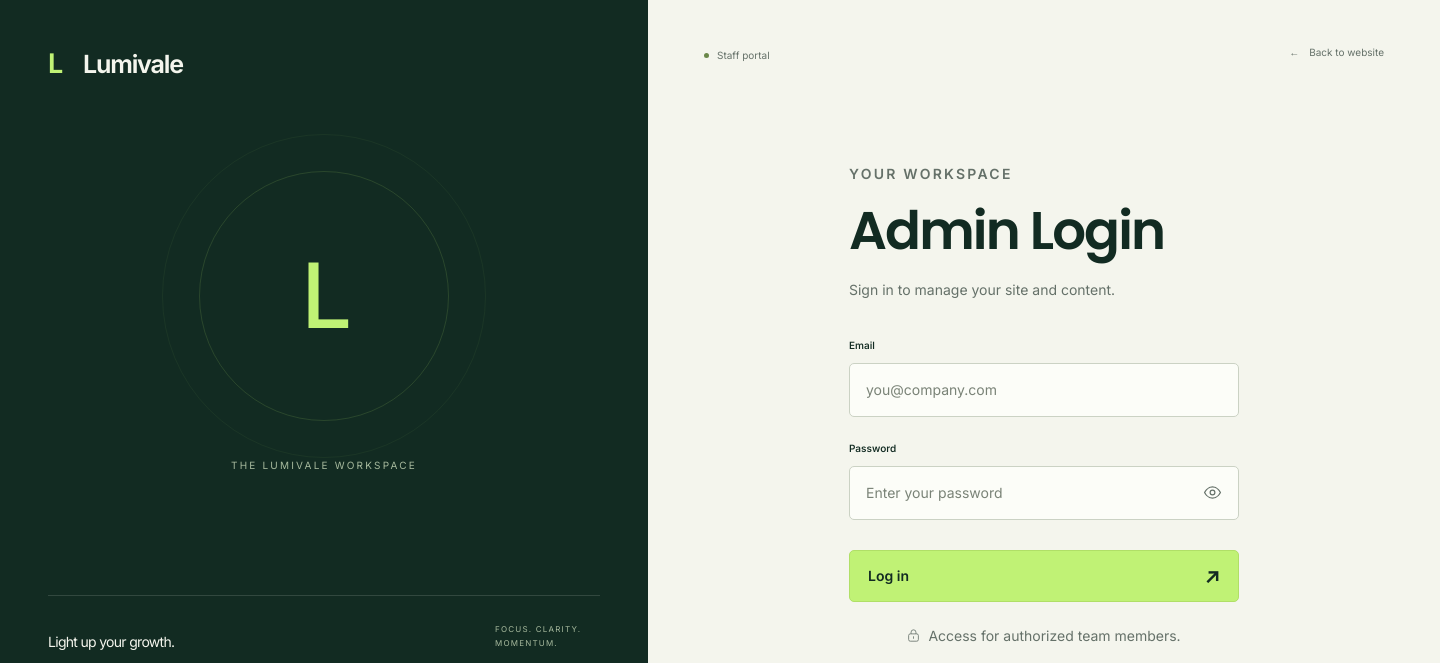
reveals and conceals the password without changing its value
Type "example-for-test" into the password field labelled "Password". click: (1044, 493)
box: x1=849 y1=466 x2=1239 y2=520
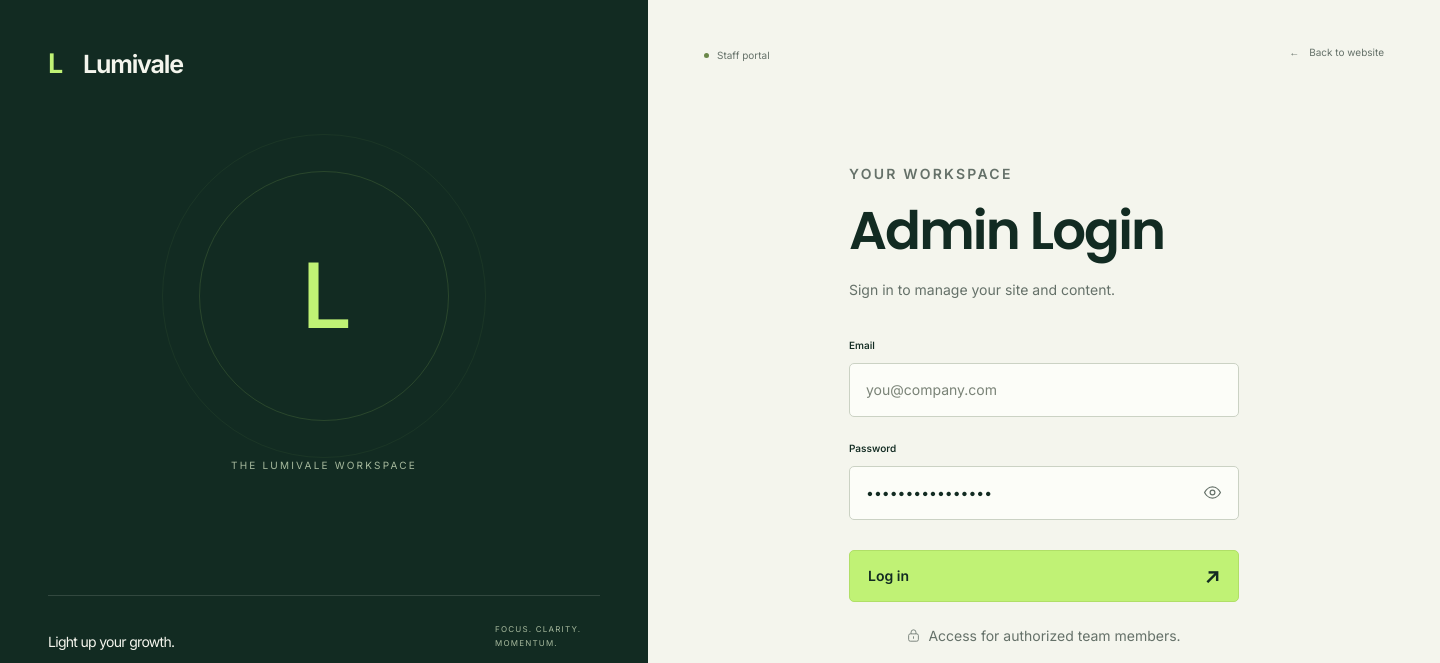
Click the button named "Show password". click: (1212, 493)
box: x1=1190 y1=471 x2=1234 y2=515
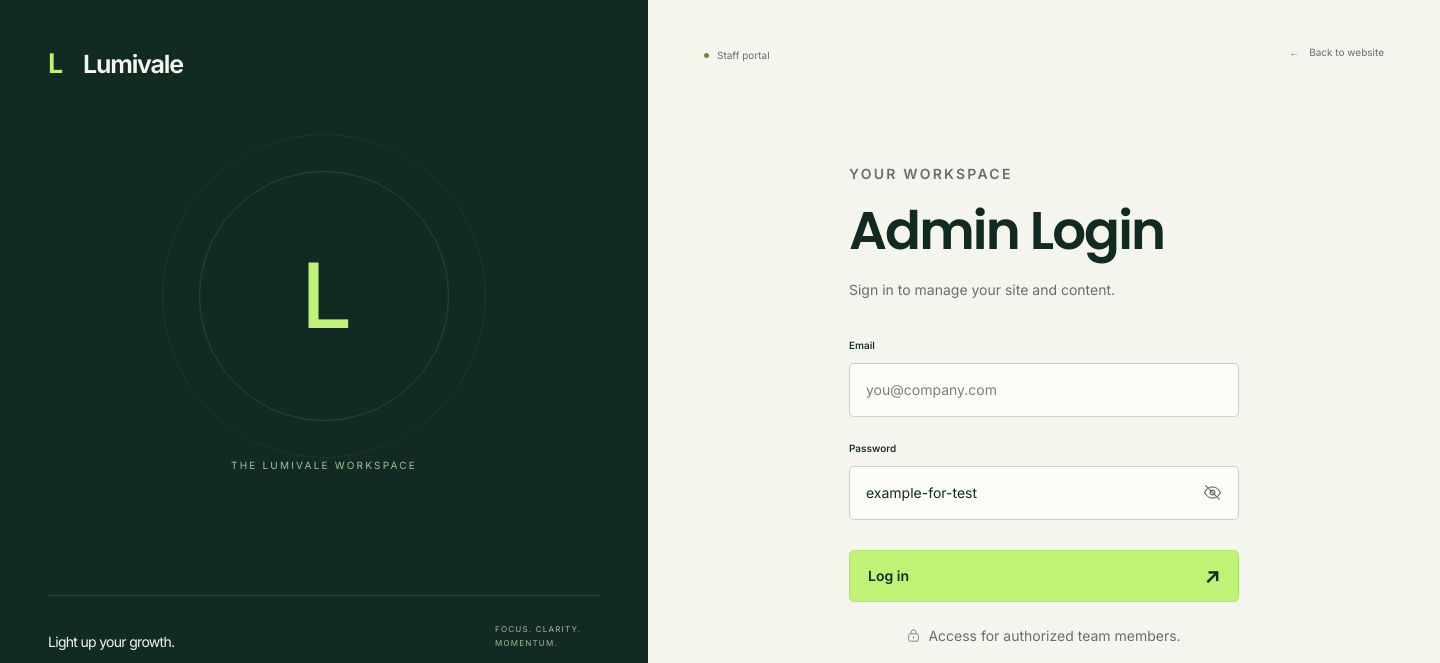
Expected: the field labelled "Password" shows its text, x1=849 y1=466 x2=1239 y2=520
Click the button named "Hide password". click: (1212, 493)
box: x1=1190 y1=471 x2=1234 y2=515
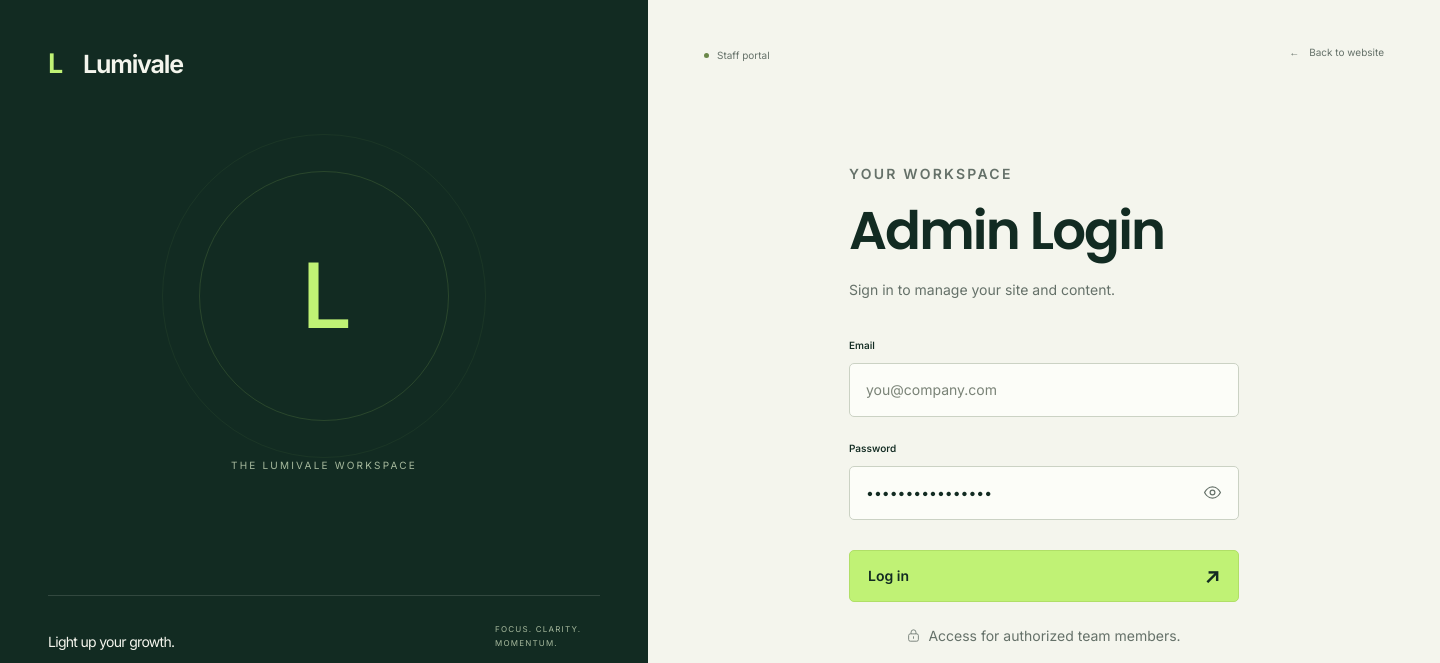
Expected: the password field labelled "Password" hides its text, x1=849 y1=466 x2=1239 y2=520
